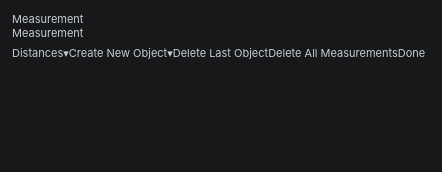
WizardPanel › says so when get_menu returns None instead of flashing an empty popup
The width and height of the screenshot is (442, 172).
Press the mouse on the button with class "wizrow--popup" showing "Distances▾" at coordinates (40, 53), box [12,44,69,62]
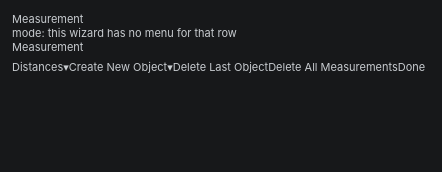
Result: the text with class "wizpanel__error" shows "no menu" at [12,26,237,40]
